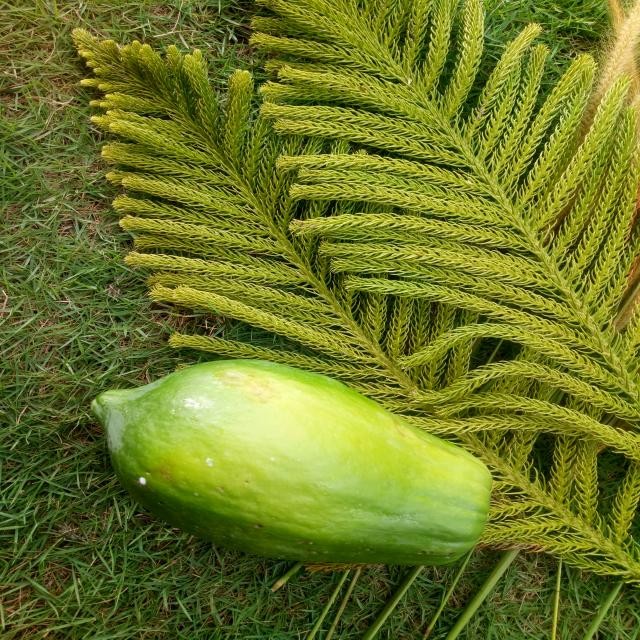Pepaya unrippen: (72, 358, 491, 586)
